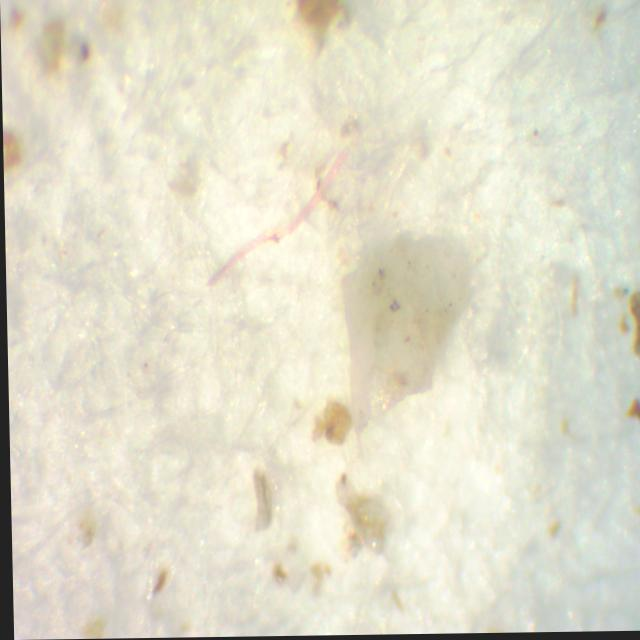microplastic: (342, 235, 470, 439), (198, 147, 344, 300)
